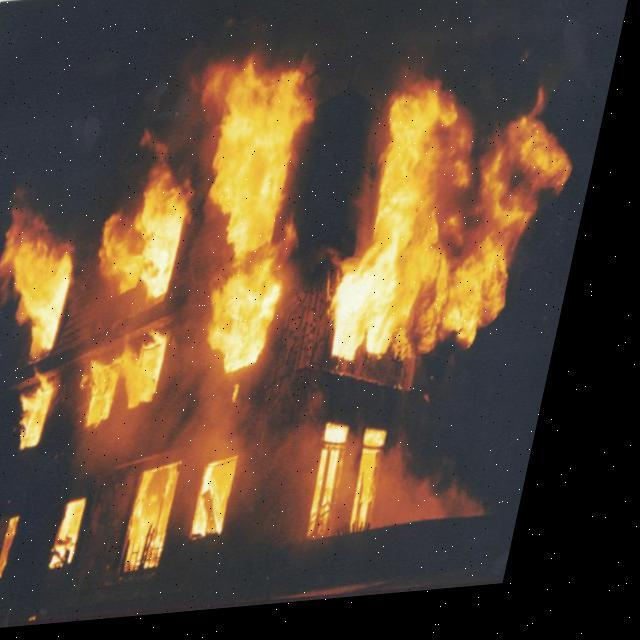Fire: (0, 32, 599, 587)
